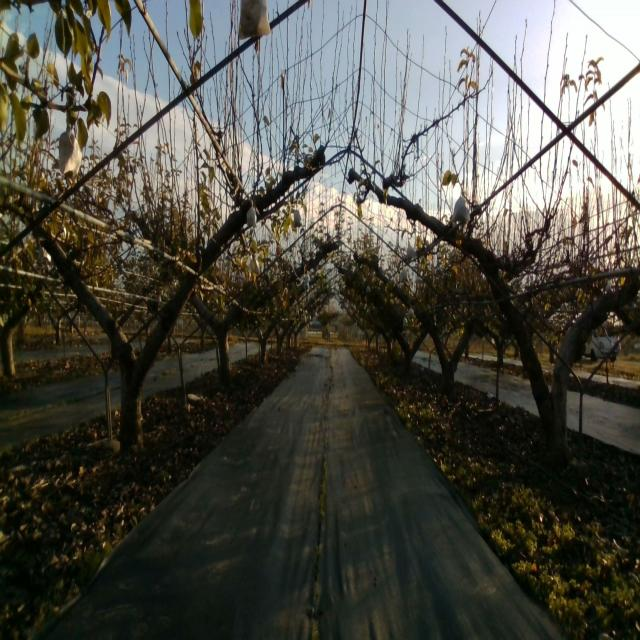pearbags: (59, 125, 82, 188), (237, 0, 272, 40), (449, 197, 472, 224), (246, 198, 258, 230), (406, 240, 416, 262), (293, 207, 303, 228)
